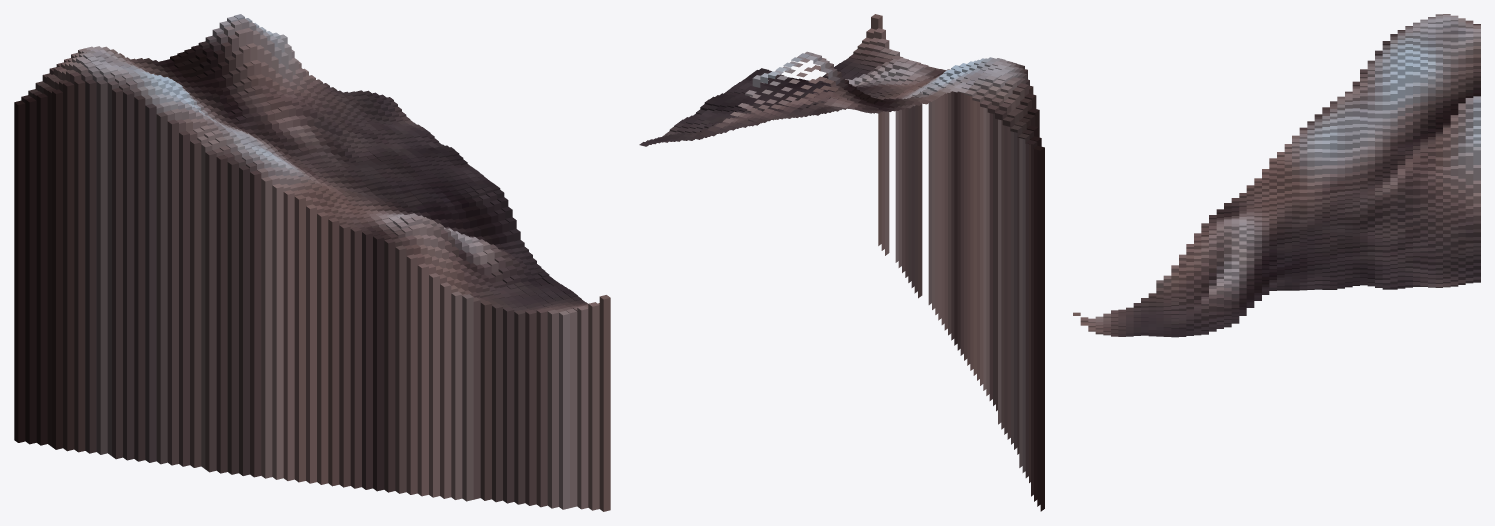
Rendered from chunk-36.glb.
3 views of the same model, side by side, from view 1: azimuth 30°, elevation 25°; view 2: azimuth 150°, elevation 25°; view 3: azimuth 270°, elevation 25° (orthographic). The views are drawn at different scales.
Parts seen in each view (by area): view 1: Mesh_0.052; view 2: Mesh_0.052; view 3: Mesh_0.052.
Part boxes in pixels (x1,y1,x2,y2): Mesh_0.052: (14, 14, 610, 511); Mesh_0.052: (639, 14, 1044, 511); Mesh_0.052: (1073, 14, 1480, 337).
Size of the model in its own units: 13250 by 12840 by 13500.
